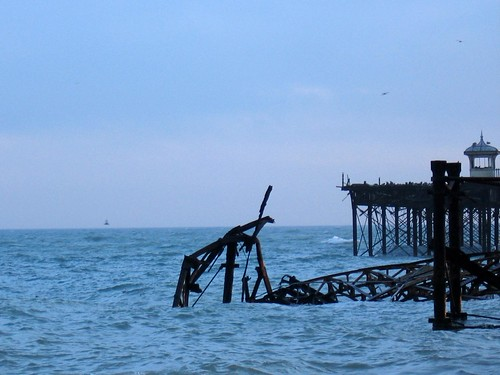debris: (170, 210, 495, 325)
sea: (3, 234, 482, 375)
sky: (1, 1, 497, 214)
